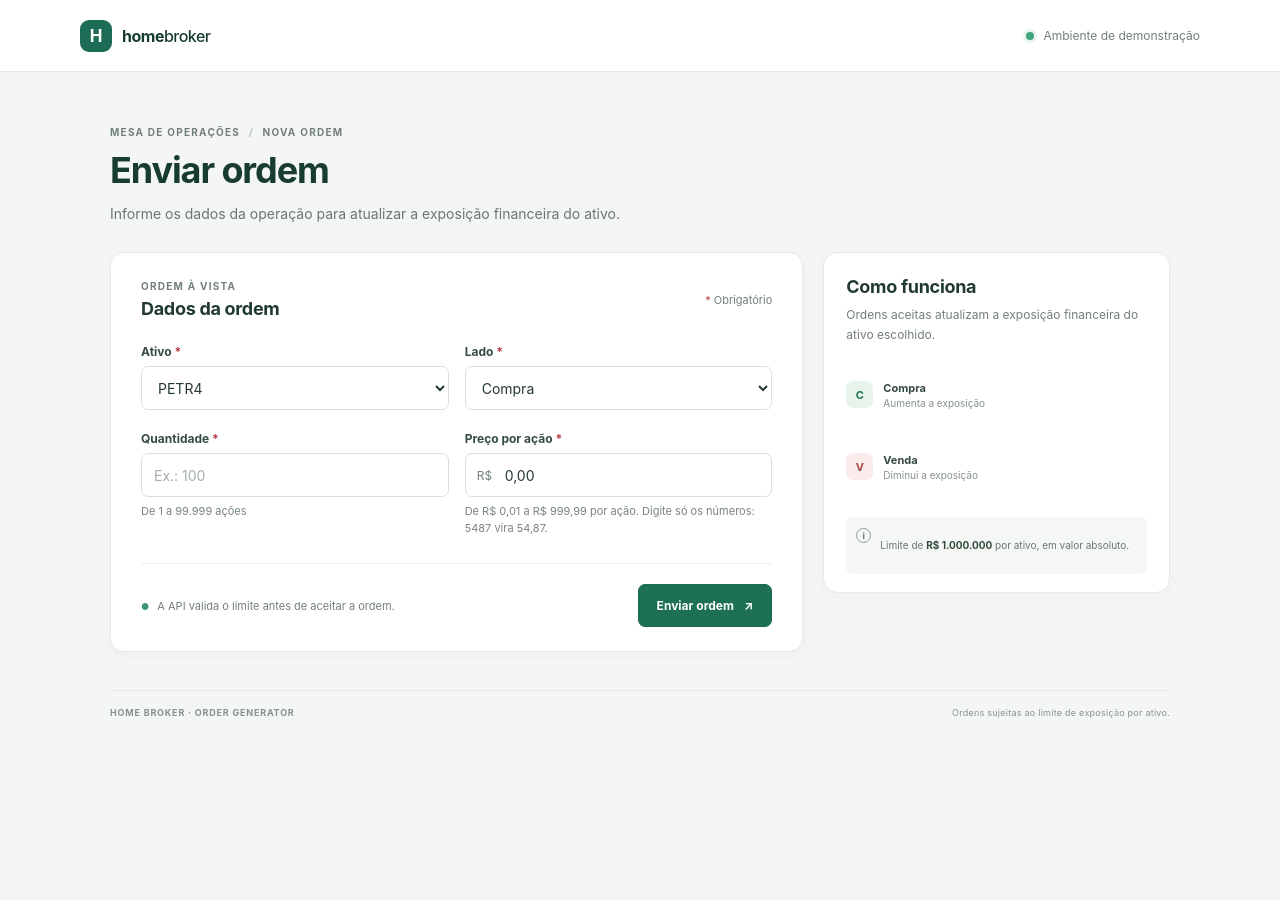
Scenario: OrderGenerator form › shows errors for missing quantity and zero price without posting
Click the button "Enviar ordem ↗".
click(705, 606)  # box [638,584,772,627]
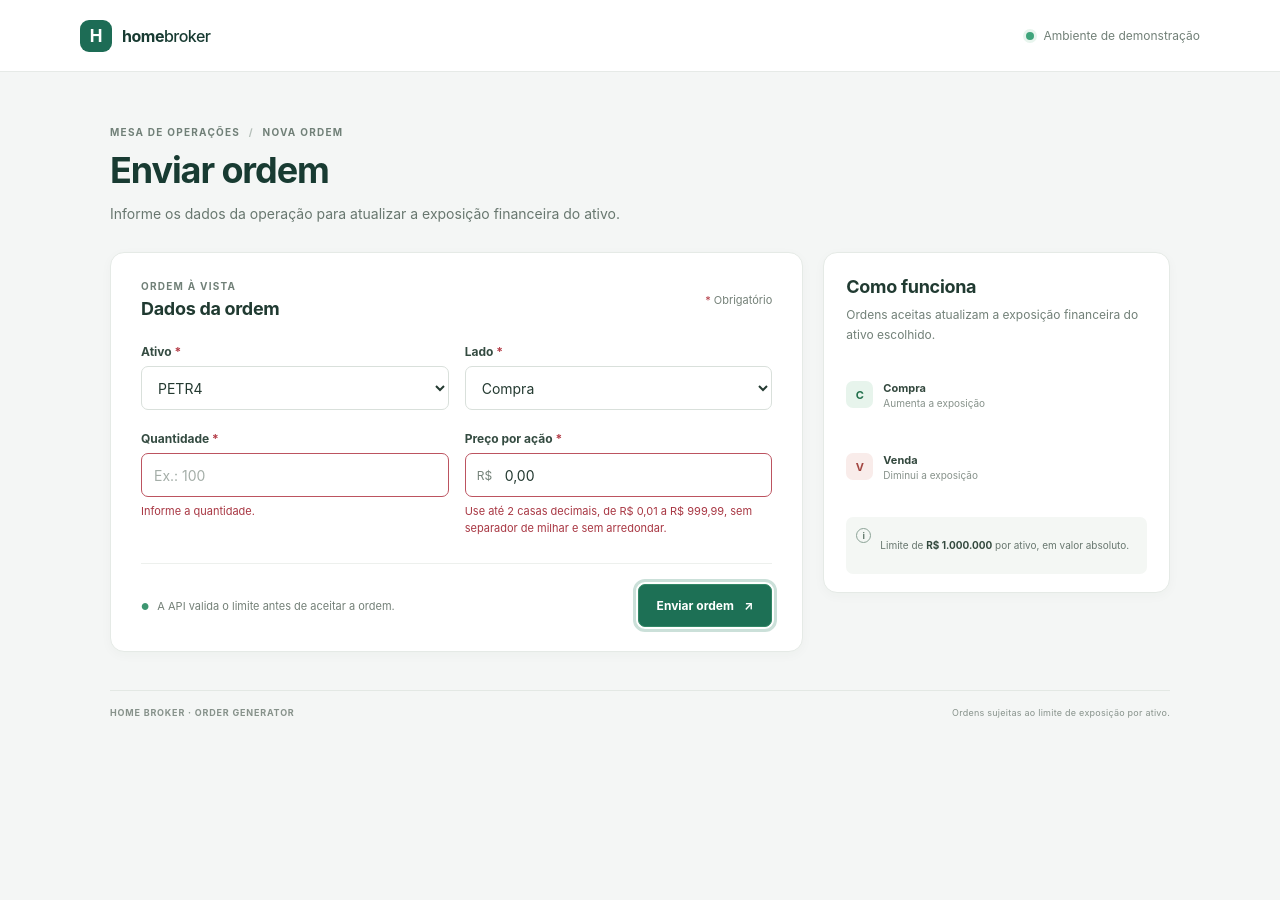
Expected: the text "de R$ 0,01 a R$ 999,99" is shown, [465,504,752,535]
Expected: the text "Informe a quantidade." is shown, [141,504,255,518]
